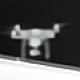plane: (7, 19, 68, 61)
